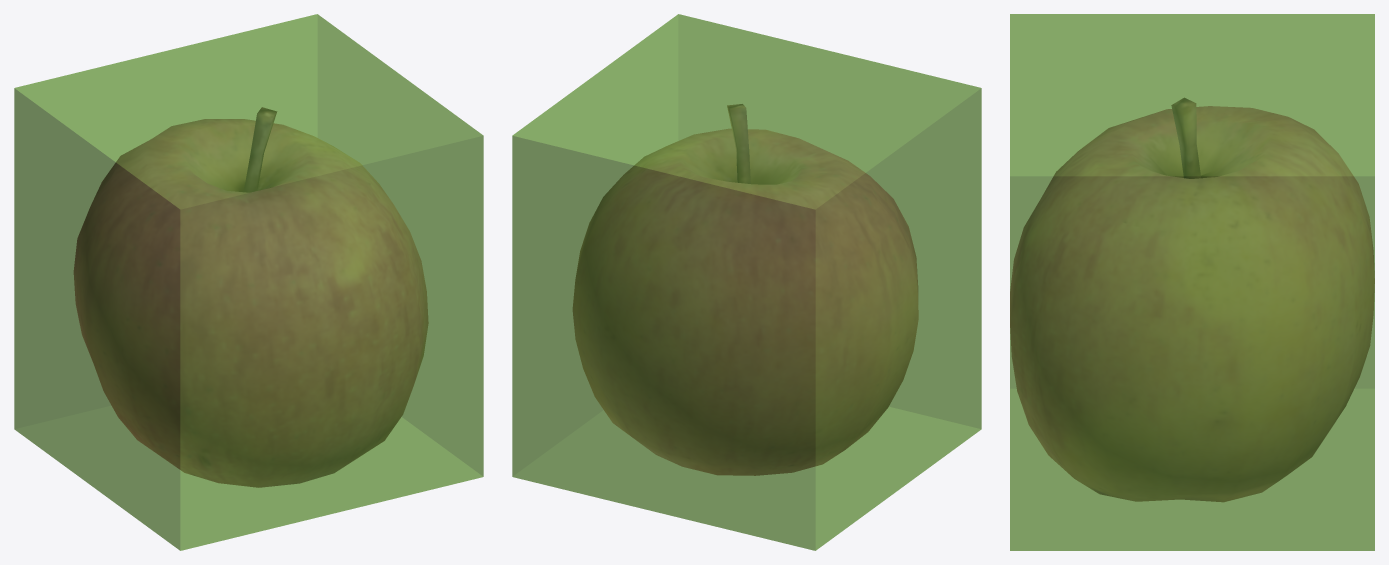
The model's file is pg_AppleRed_01.fbx.
3 renders of one model, left to right at view 1: azimuth 30°, elevation 25°; view 2: azimuth 150°, elevation 25°; view 3: azimuth 270°, elevation 25°, orthographic. The views are drawn at different scales.
Parts seen in each view (by area): view 1: pg_AppleRed_01_col, pg_AppleRed_01_LOD0; view 2: pg_AppleRed_01_col, pg_AppleRed_01_LOD0; view 3: pg_AppleRed_01_col, pg_AppleRed_01_LOD0.
Boxes of the visible parts, x1,y1,x2,y2 form: pg_AppleRed_01_col: (14, 14, 483, 550); pg_AppleRed_01_LOD0: (73, 107, 428, 487); pg_AppleRed_01_col: (512, 14, 981, 550); pg_AppleRed_01_LOD0: (572, 104, 918, 475); pg_AppleRed_01_col: (1010, 14, 1374, 550); pg_AppleRed_01_LOD0: (1010, 97, 1374, 502).
Size of what is drawn, in the model's own units: 8.12 by 8.74 by 7.71.
